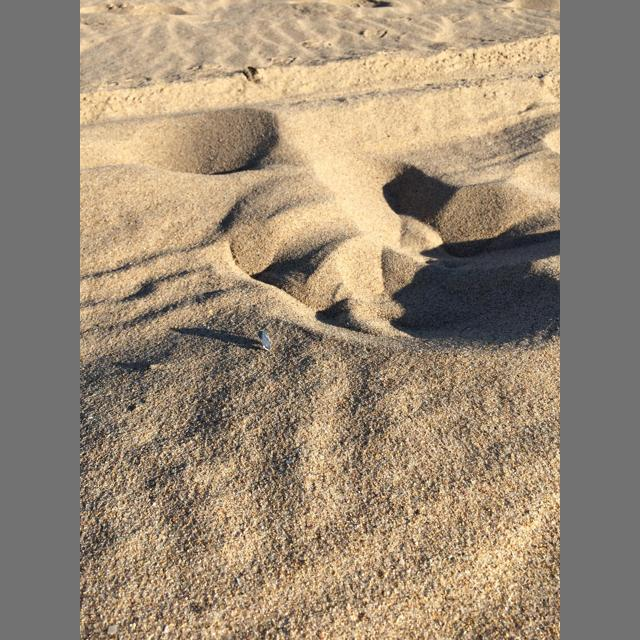litter: (258, 329, 271, 351)
